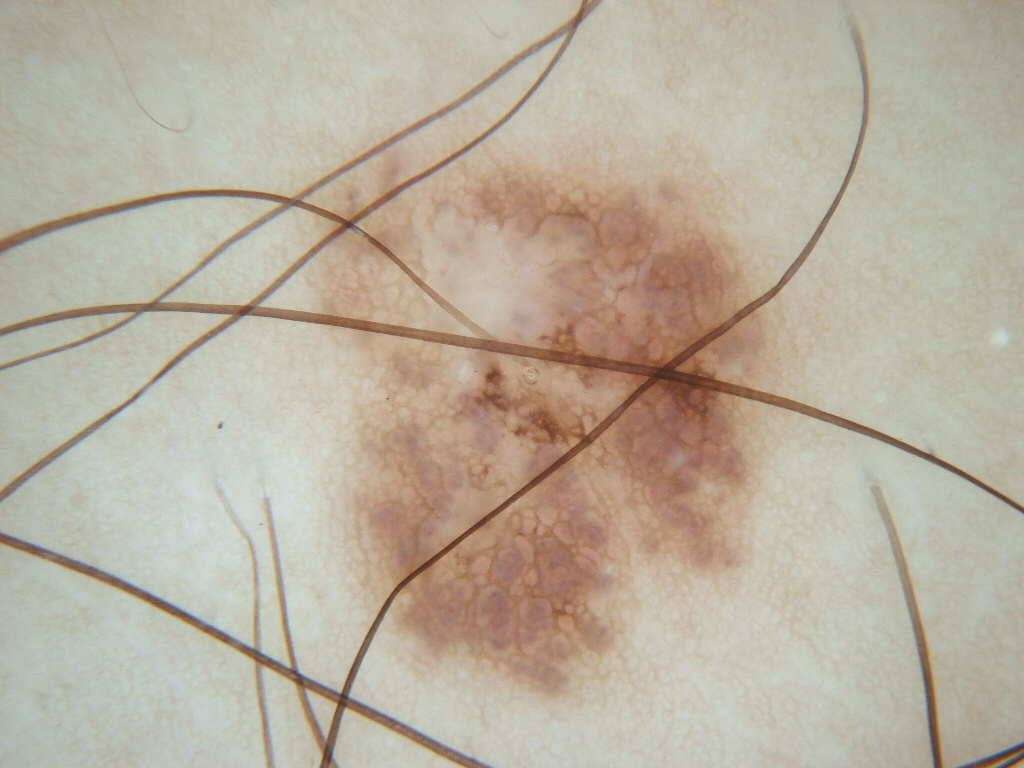Detected Lesion: (287, 124, 772, 703)
